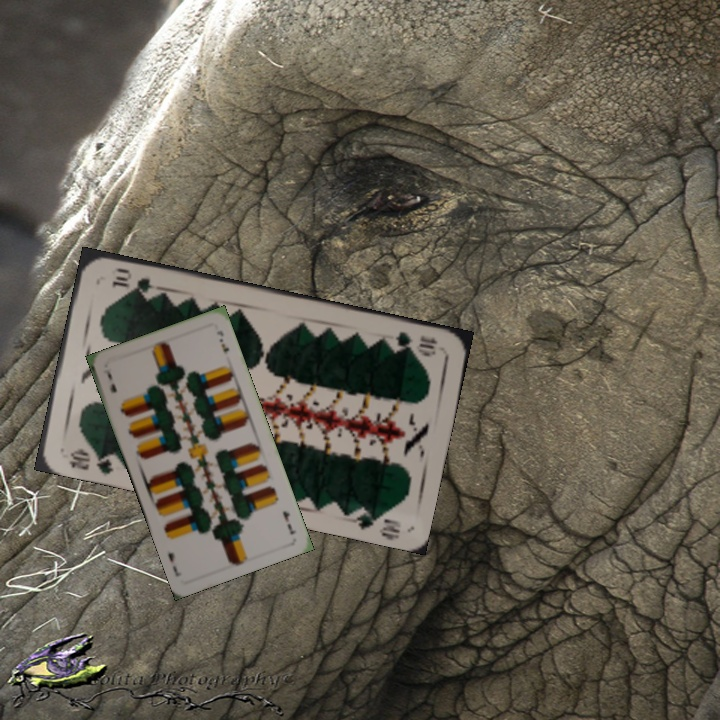E7: (99, 365, 120, 395), (278, 507, 299, 537)
G10: (65, 444, 122, 477), (391, 327, 440, 358)
